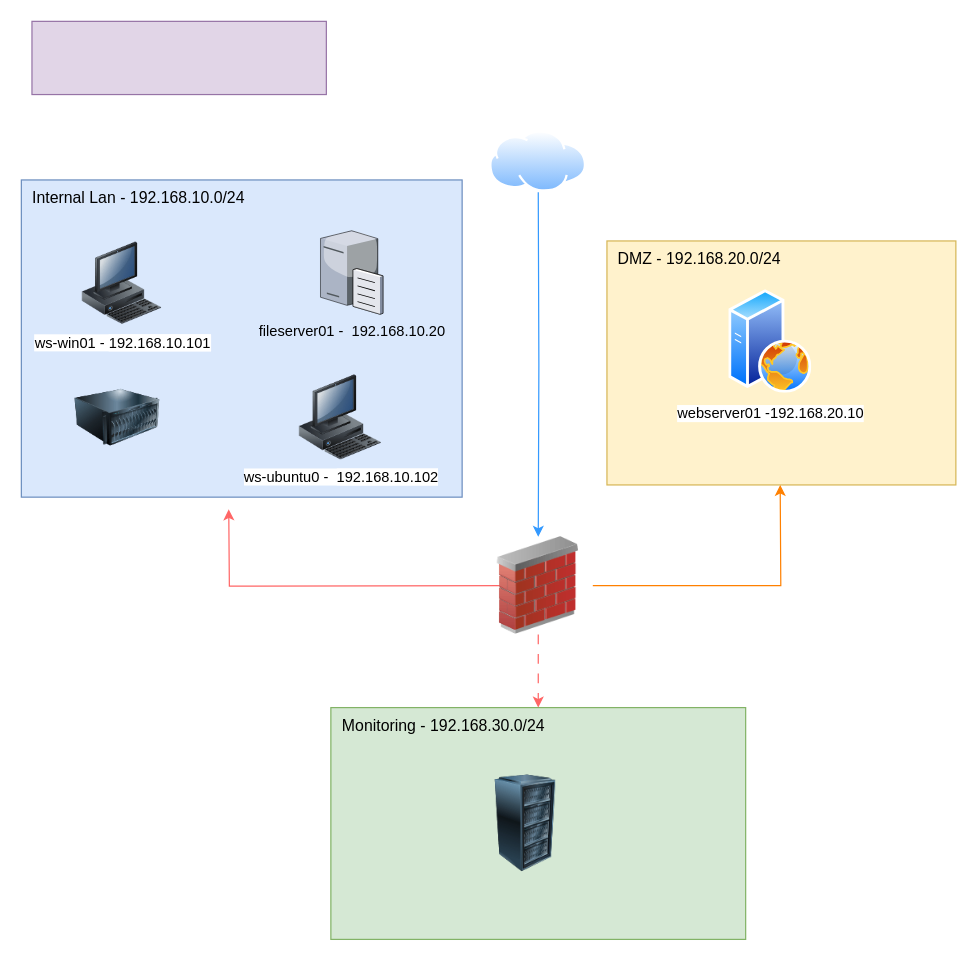
The diagram is 977 pixels wide and 961 high, and some of its shapes have lost their labels. Here are the shapes that lost their labels. From the top down, the centre of each, then its label:
At (178,57): "— — = network traffic - - - - = log/telemetry flow".
At (117,417): "dc01 - 192.168.10.10".
At (525,823): "wazuh01 - 192.168.30.10".
